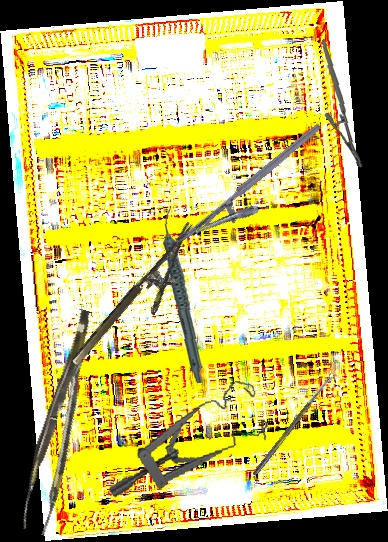Handpiece: (158, 209, 210, 383)
Needle Holder: (68, 220, 216, 383), (173, 122, 338, 265), (315, 40, 370, 168)
Speculum: (94, 377, 277, 499)
Surgical Spoon: (252, 371, 337, 477)
Tissue Forceps: (8, 308, 118, 537)
